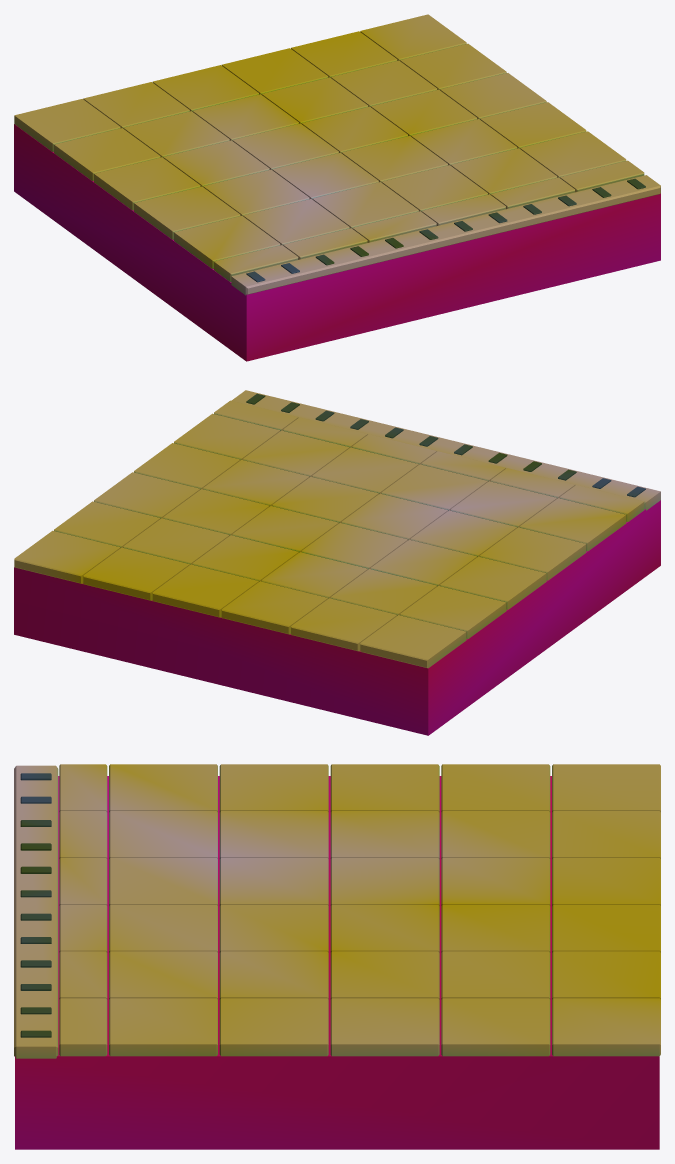
The model's file is GS_Apron_6m.fbx.
3 views of the same model, one above another, from view 1: azimuth 30°, elevation 25°; view 2: azimuth 150°, elevation 25°; view 3: azimuth 270°, elevation 25° (orthographic). The views are drawn at different scales.
Visible parts, largest first — view 1: GS_Apron_6m; view 2: GS_Apron_6m; view 3: GS_Apron_6m.
Part boxes in pixels (x1,y1,x2,y2): GS_Apron_6m: [14, 14, 660, 361]; GS_Apron_6m: [14, 390, 660, 735]; GS_Apron_6m: [14, 764, 660, 1149].
Bounding box in the file's own units: 6 × 1.05 × 5.84.
